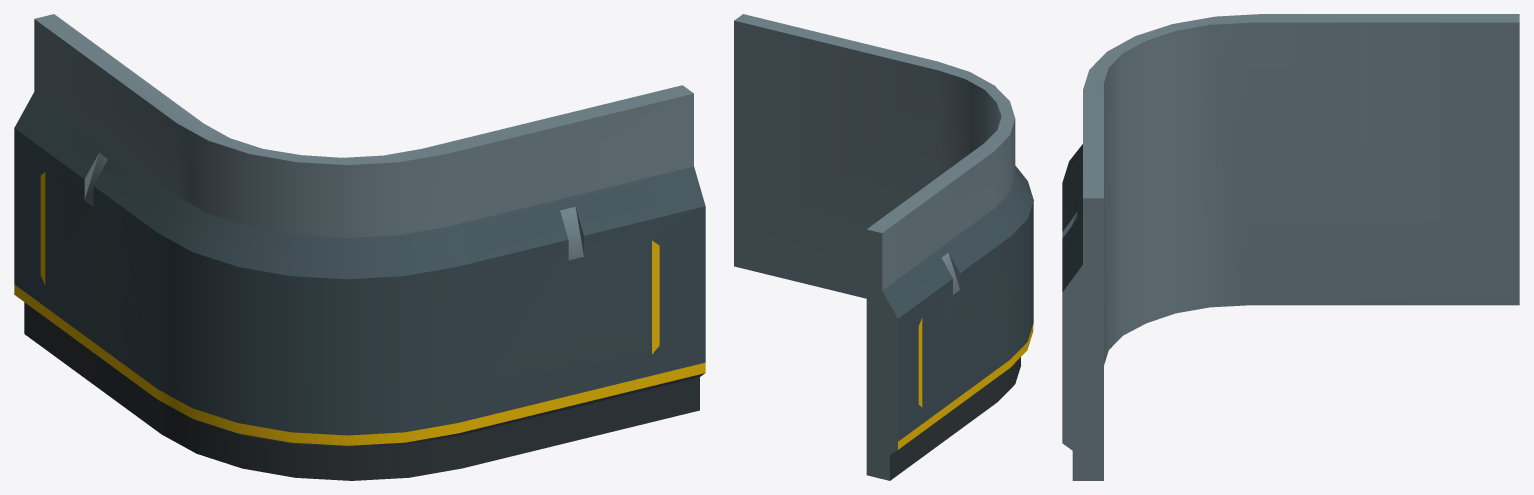
The model's file is Wall_type_C_041.fbx.
3 renders of one model, left to right at view 1: azimuth 30°, elevation 25°; view 2: azimuth 150°, elevation 25°; view 3: azimuth 270°, elevation 25°, orthographic. The views are drawn at different scales.
Parts seen in each view (by area): view 1: Wall_type_C_041; view 2: Wall_type_C_041; view 3: Wall_type_C_041.
Boxes of the visible parts, left/top/right/bottom form: Wall_type_C_041: left=14, top=14, right=705, bottom=480; Wall_type_C_041: left=734, top=14, right=1033, bottom=480; Wall_type_C_041: left=1062, top=14, right=1519, bottom=480.
Size of the model in its own units: 220 by 220 by 150.
